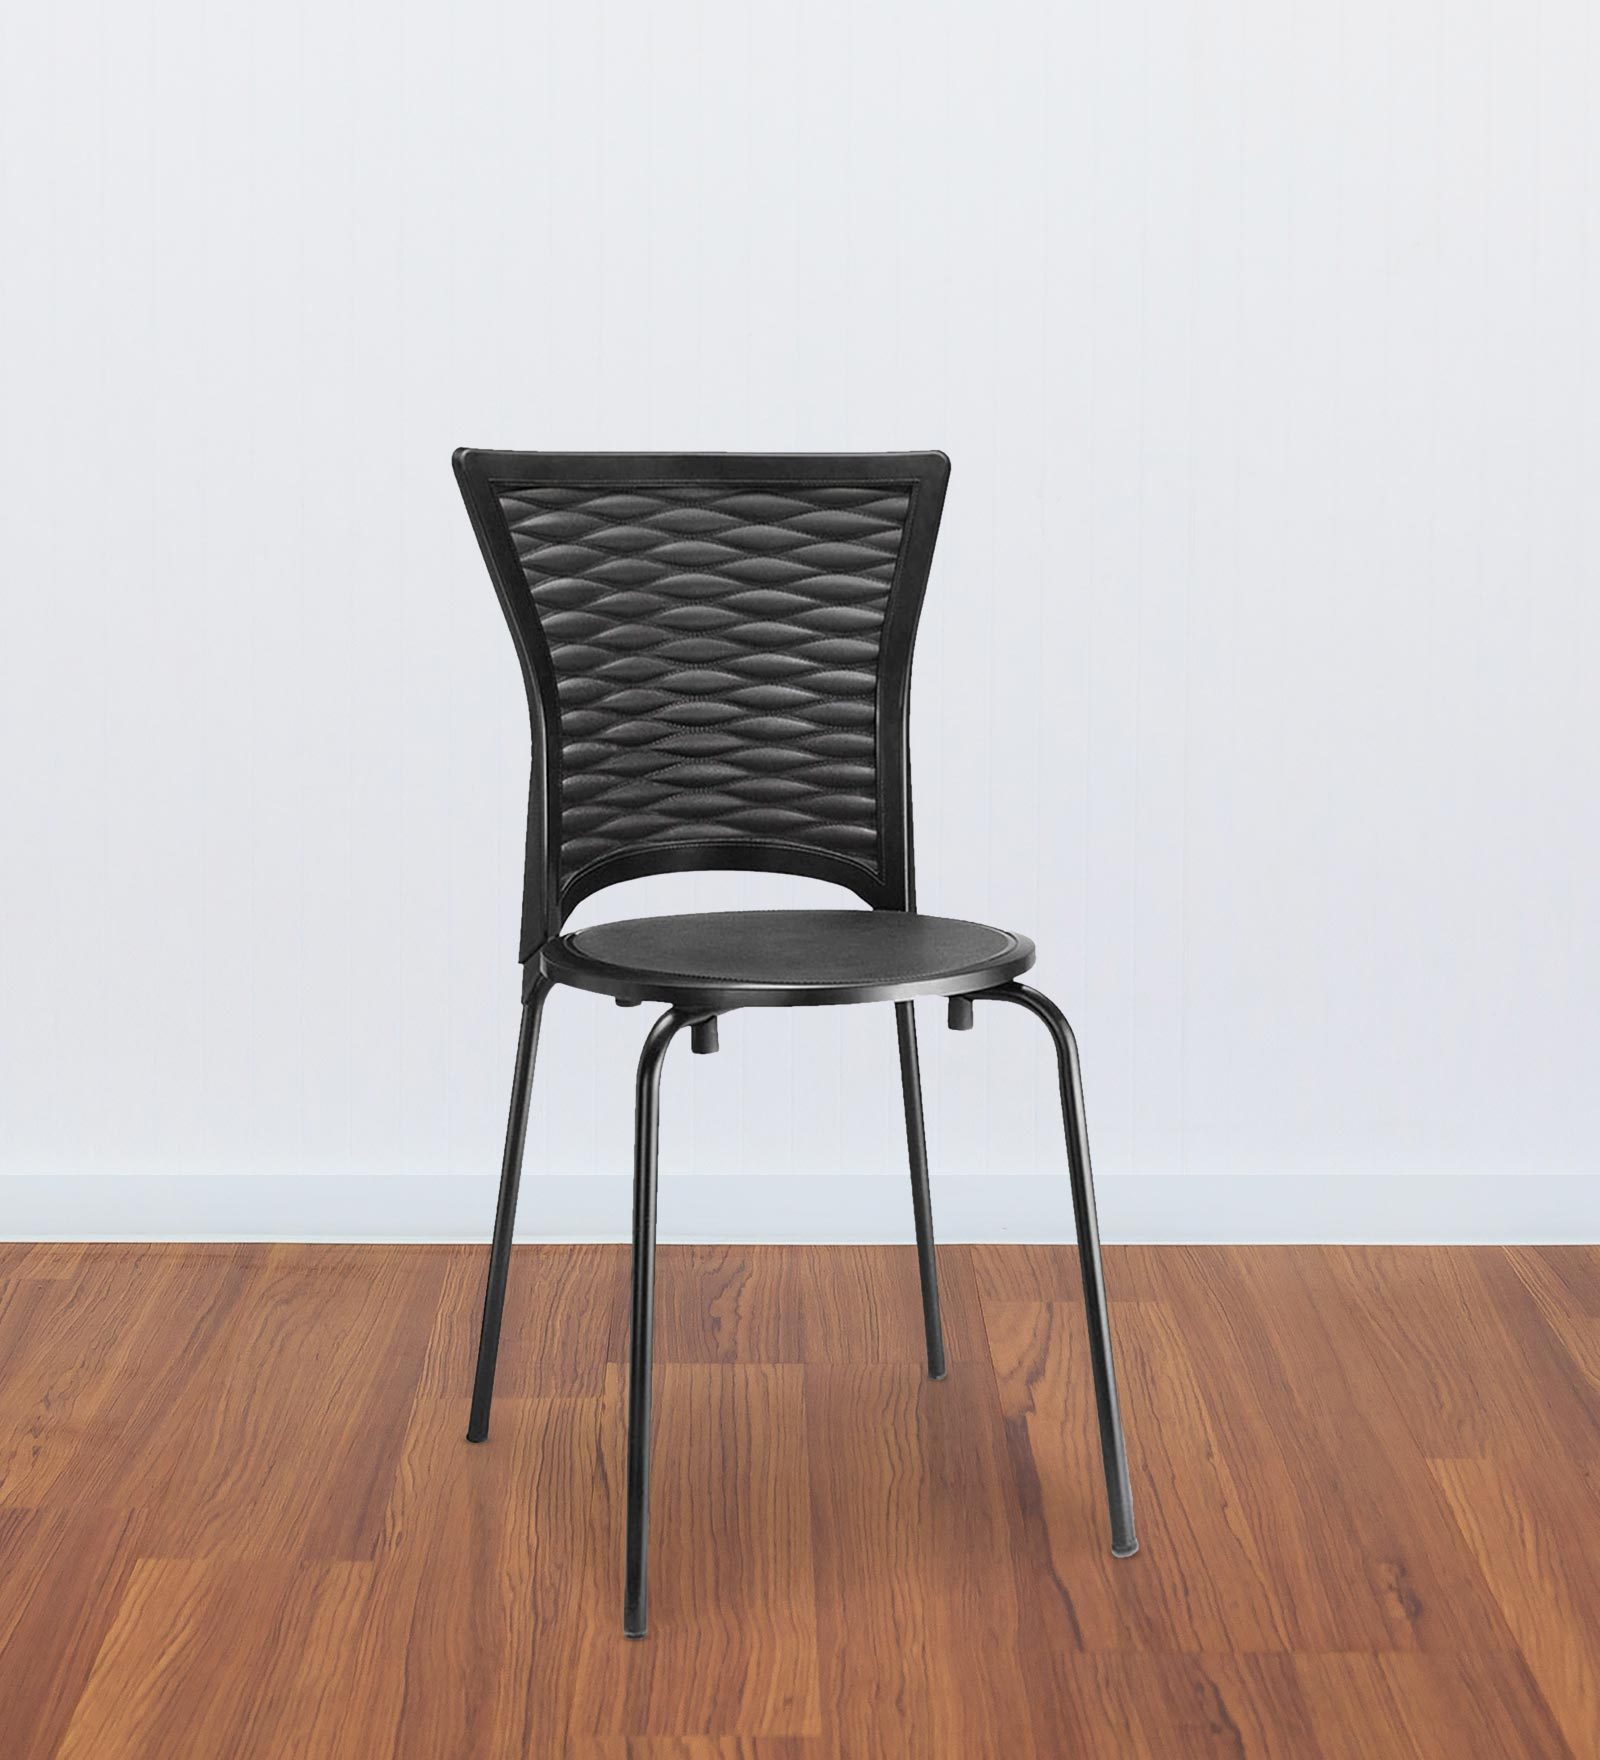Novella Plastic Chair in Black Colour by Nilkamal: (444, 437, 1157, 1643)
